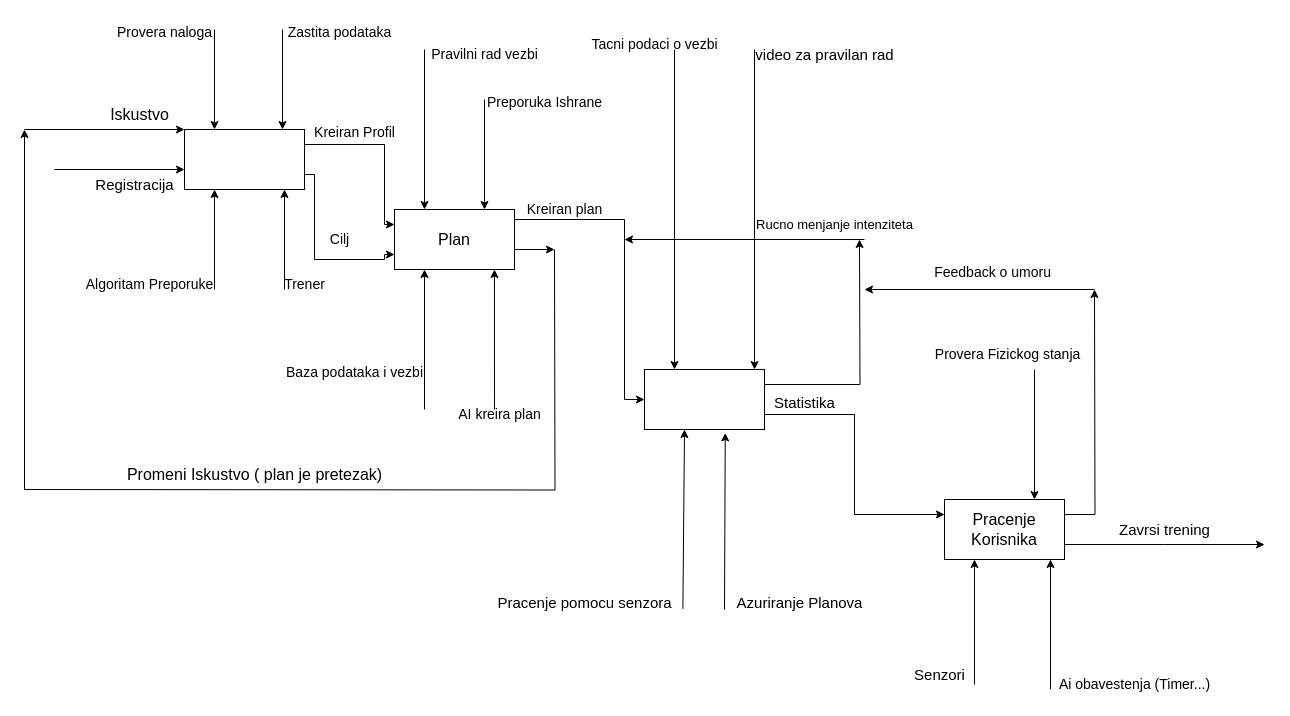
Some shapes in this 1290 by 716 pixel diagram are drawn without their labels. The shapes that lost their labels are listed below. From the top down, each one's centre as x and y in pixels, then its label:
point (244, 159): Korisnik
point (704, 399): Vezba
